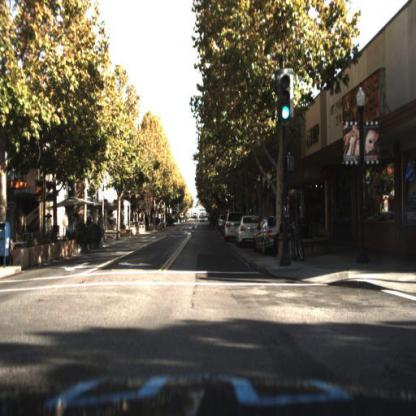car: (255, 214, 282, 258), (235, 214, 259, 245), (237, 216, 257, 246), (226, 208, 243, 242), (224, 214, 238, 244)
pedestrian: (405, 187, 416, 251), (276, 213, 287, 255), (62, 207, 71, 247)
trafficLight: (282, 71, 292, 123)
